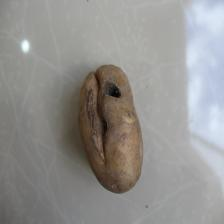Damaged potato: (76, 62, 144, 197)
